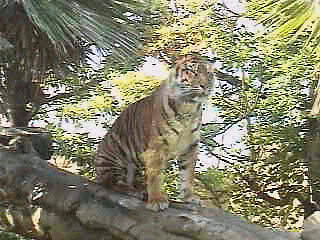Tigre: (94, 38, 227, 199)
